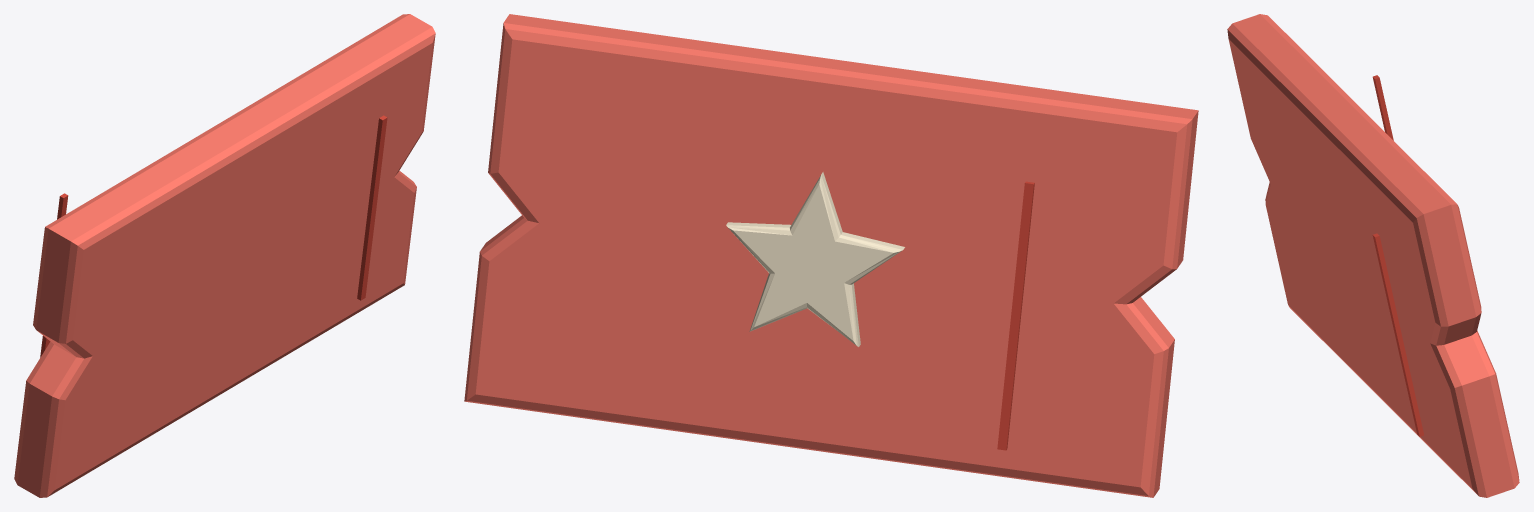
File: Ticket3D.glb
The picture shows the model from 3 angles, left to right: view 1: azimuth 30°, elevation 25°; view 2: azimuth 150°, elevation 25°; view 3: azimuth 270°, elevation 25°; orthographic projection. The views are drawn at different scales.
Visible parts, largest first — view 1: Body; view 2: Body; view 3: Body.
Boxes of the visible parts, box(x1,y1,x2,y2) form: Body: box(14, 14, 435, 497); Body: box(464, 14, 1198, 497); Body: box(1227, 14, 1519, 497).
Size of the model in its own units: 2.18 by 1.43 by 1.17.
1 material, 1 textured.
